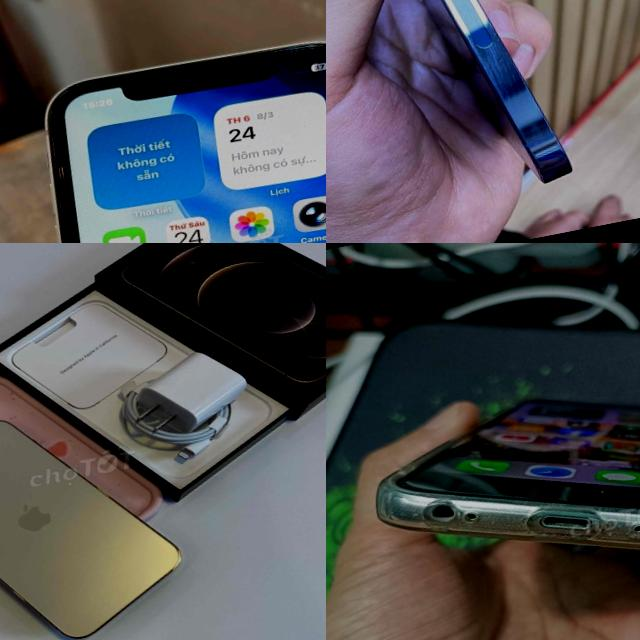scratch: (482, 38, 560, 158), (193, 54, 224, 78)
